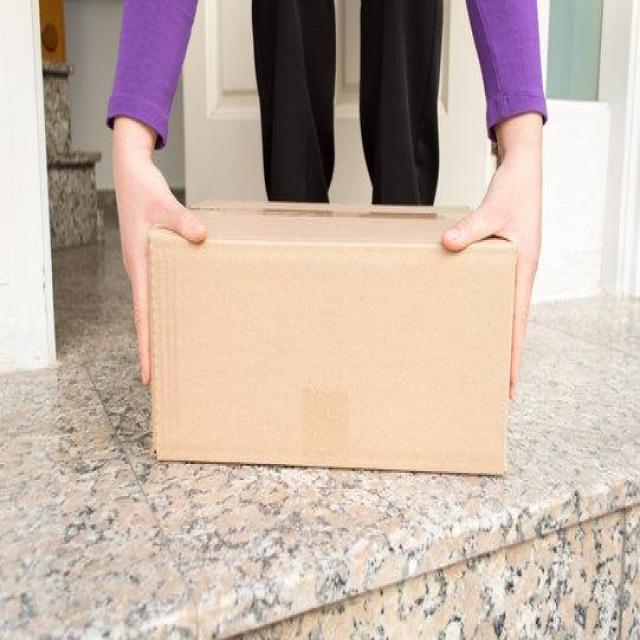box: (141, 192, 517, 486)
